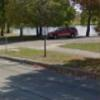cars: (48, 28, 78, 39)
